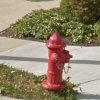Hydrant: (36, 22, 76, 88)
